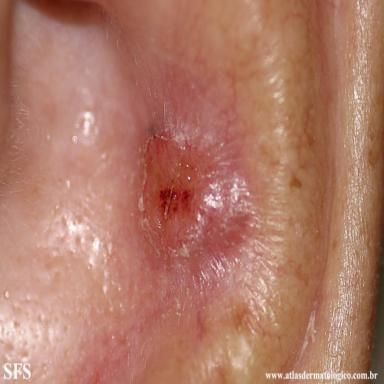basal-cell-carcinoma: (140, 134, 248, 258)
